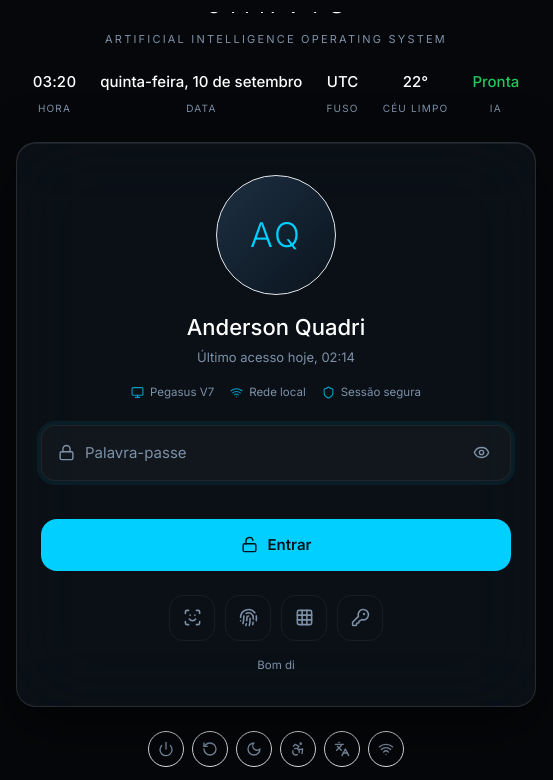
Test case: LoginScreen › 2FA (segundo fator) › ligado com chave registada, a palavra-passe sozinha não basta — pede o segundo fator
This screenshot has width=553, height=780.
In the password field labelled "Palavra-passe": (272, 453) [85, 442, 459, 464], type "qualquer-uma"
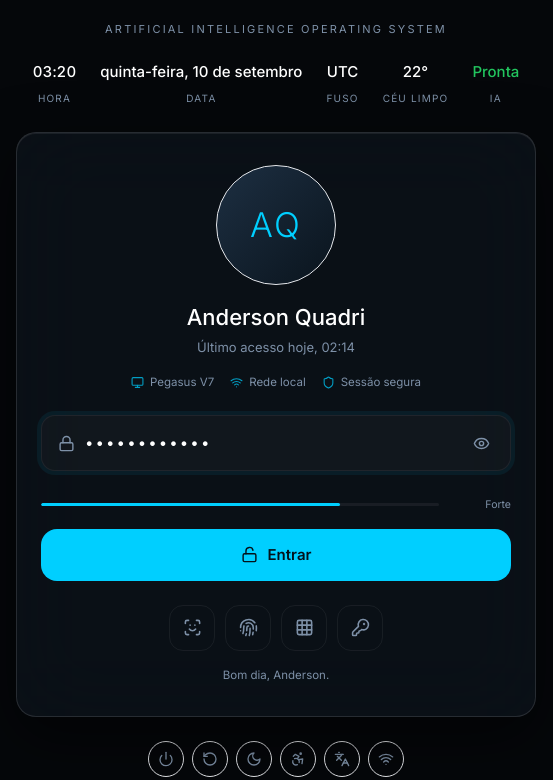
Click the button "Entrar": (276, 555) [41, 529, 511, 581]
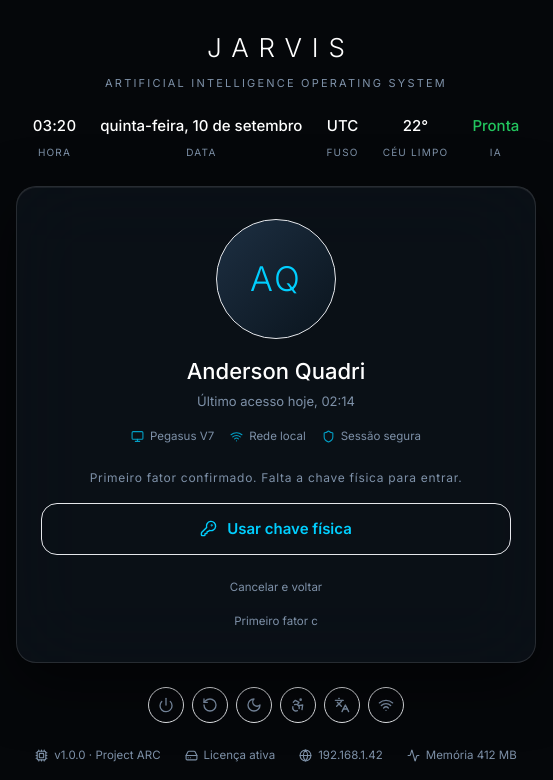
Expected: the button "Usar chave física" is shown, [41, 503, 511, 555]
